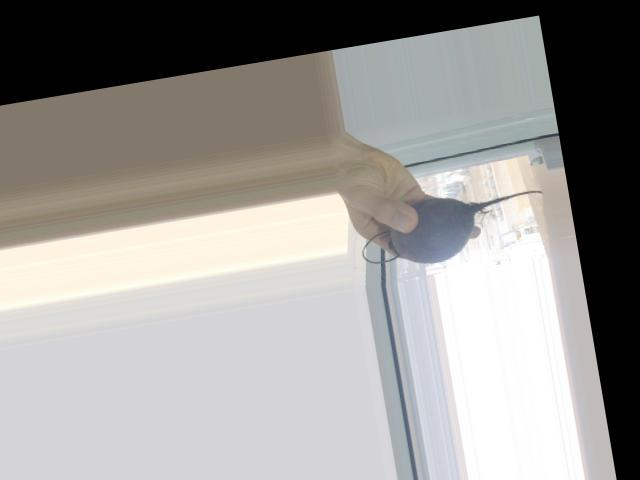beet: (356, 179, 551, 274)
